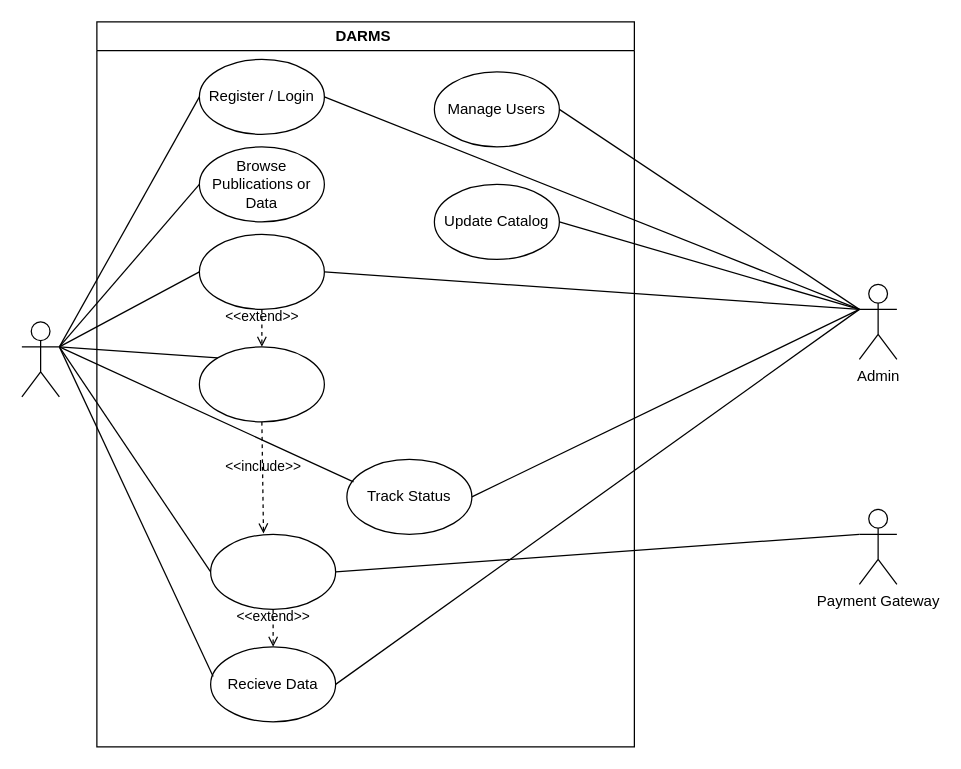
The diagram is 961 pixels wide and 769 high, and some of its shapes have lost their labels. Each missing label, with the centre of its shape:
"Process Payment" goes at (x=272, y=571).
"Submit Data Request" goes at (x=261, y=271).
"Submit Required Documents" goes at (x=261, y=384).
"User" goes at (x=40, y=359).
